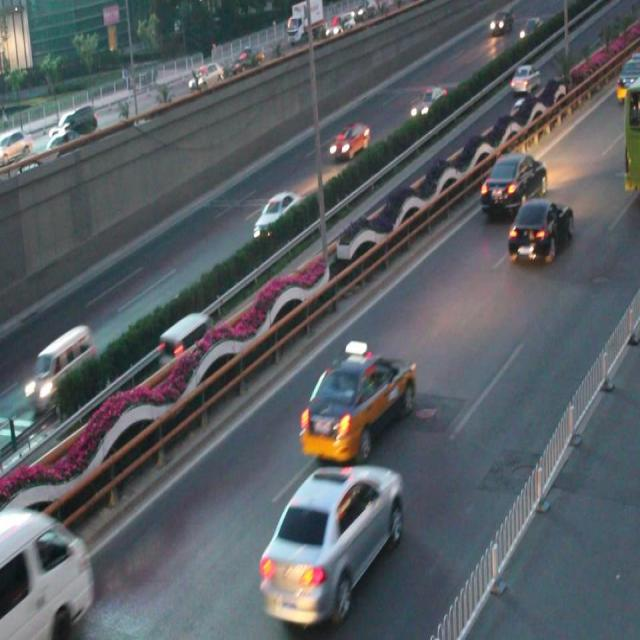car: (258, 459, 402, 620), (300, 340, 416, 459), (505, 200, 576, 264), (478, 150, 546, 213), (252, 192, 302, 239), (327, 122, 370, 160), (407, 83, 448, 120)
truck: (0, 503, 95, 640), (25, 325, 94, 411), (157, 310, 214, 368)
van: (620, 84, 640, 189)
